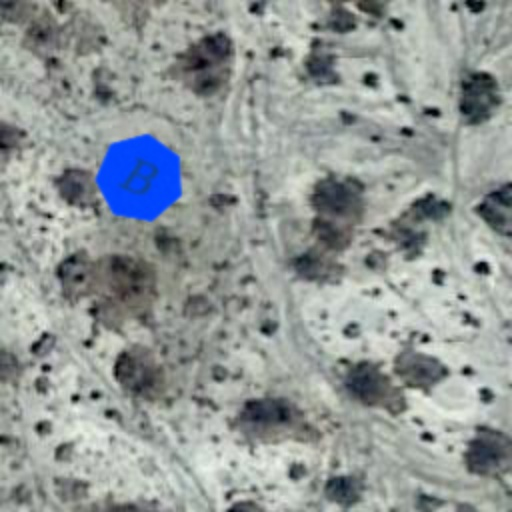heptagon: (80, 118, 200, 238)
